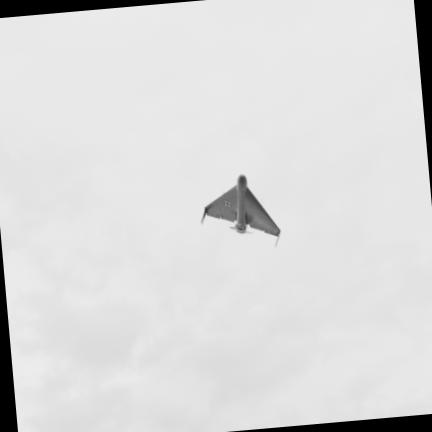Shahed: (203, 174, 279, 237)
